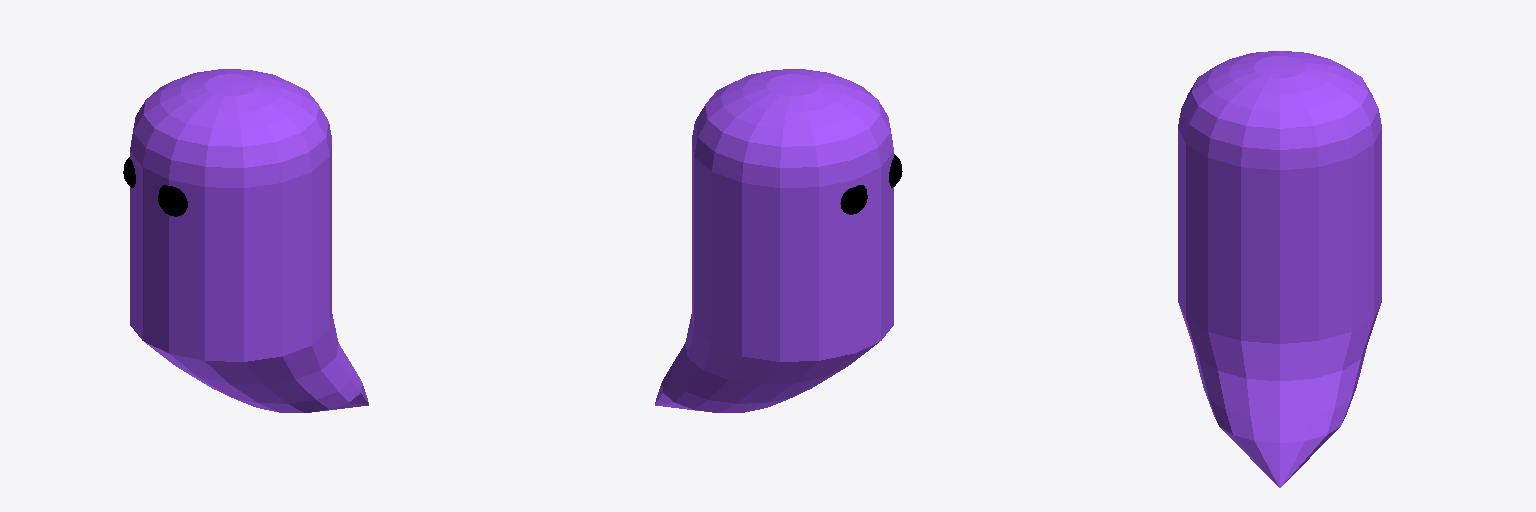
The model's file is Ghost.obj.
3 views of the same model, side by side, from view 1: azimuth 30°, elevation 25°; view 2: azimuth 150°, elevation 25°; view 3: azimuth 270°, elevation 25° (orthographic).
Parts seen in each view (by area): view 1: Sphere.005_Sphere.006, Sphere.003_Sphere.004; view 2: Sphere.005_Sphere.006, Sphere.004_Sphere.005; view 3: Sphere.005_Sphere.006.
Part boxes in pixels (bbox=[...]): Sphere.005_Sphere.006: bbox=[130, 69, 368, 412]; Sphere.003_Sphere.004: bbox=[158, 185, 187, 216]; Sphere.005_Sphere.006: bbox=[655, 69, 893, 412]; Sphere.004_Sphere.005: bbox=[840, 185, 867, 214]; Sphere.005_Sphere.006: bbox=[1178, 51, 1381, 487].
Size of the model in its own units: 2.57 by 3.83 by 2.